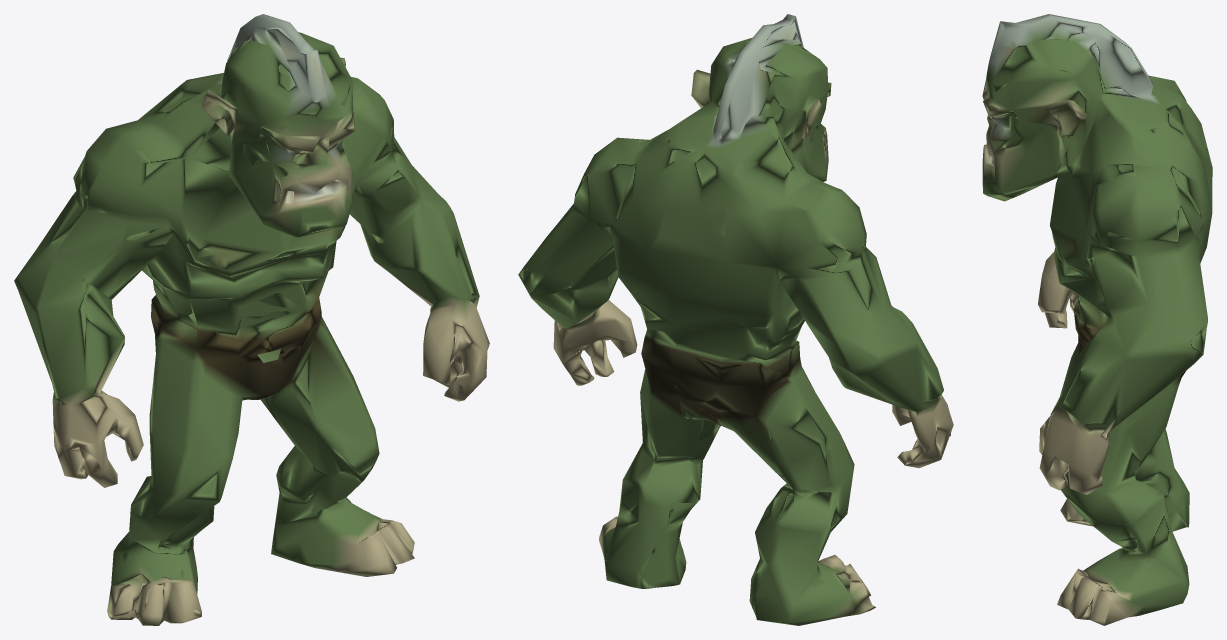
File: gen3d-ogre-lod0.glb
3 views of the same model, side by side, from view 1: azimuth 30°, elevation 25°; view 2: azimuth 150°, elevation 25°; view 3: azimuth 270°, elevation 25° (orthographic). The views are drawn at different scales.
Visible parts, largest first — view 1: part_0; view 2: part_0; view 3: part_0.
Part boxes in pixels (bbox=[...]): part_0: bbox=[14, 14, 489, 625]; part_0: bbox=[518, 14, 953, 625]; part_0: bbox=[982, 14, 1212, 625].
Size of the model in its own units: 0.7675 by 0.999 by 0.3844.
